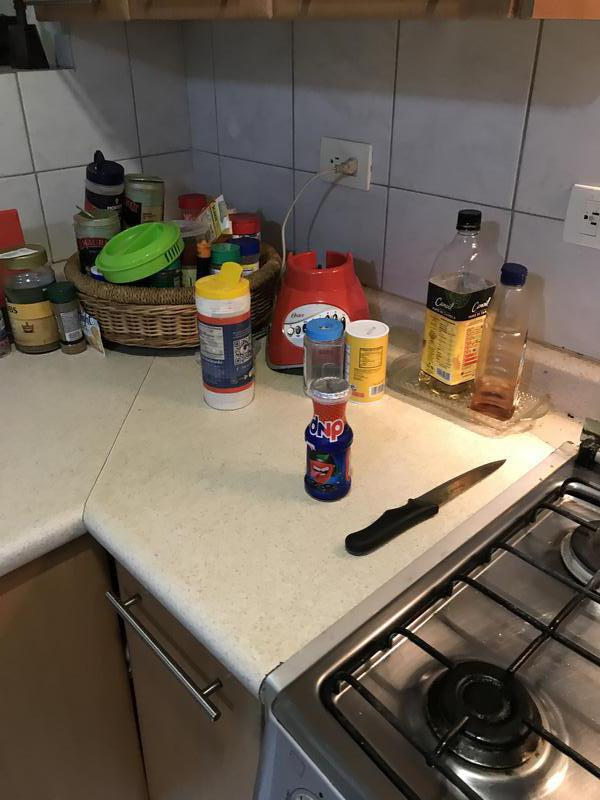danup: (305, 378, 355, 502)
